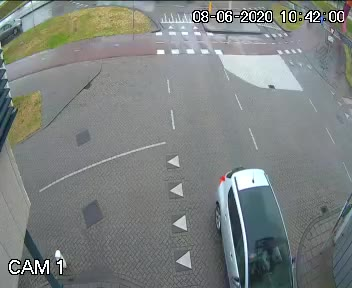car: (203, 150, 321, 288)
